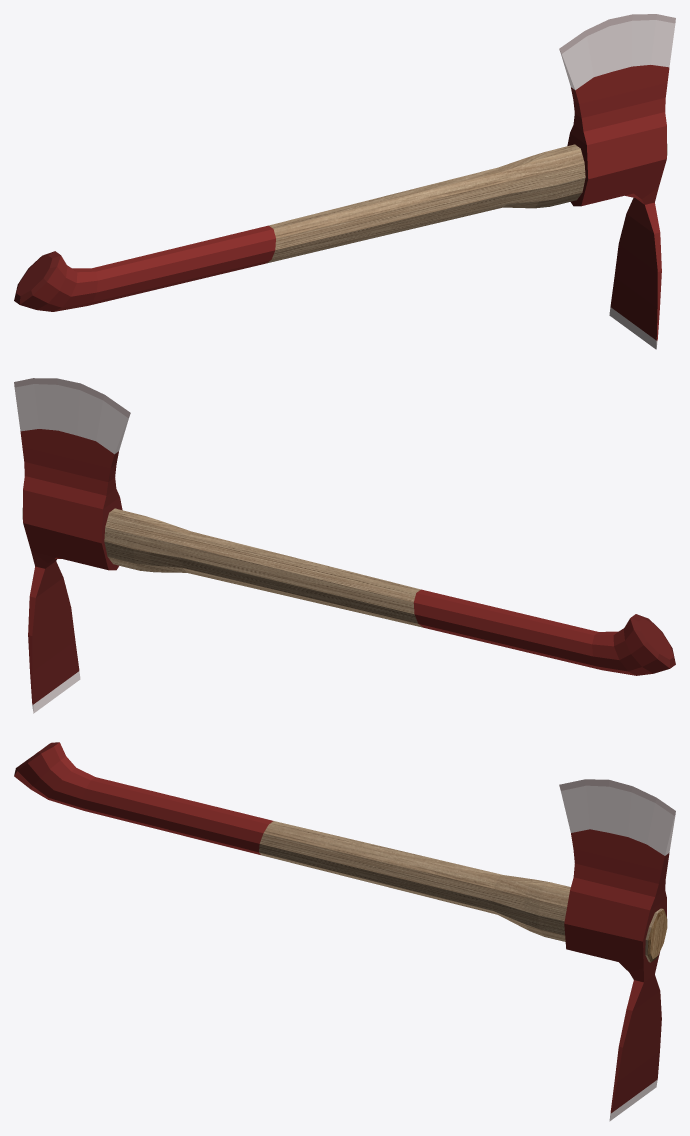
Rendered from PulaskiAxe.fbx.
3 renders of one model, top to bottom at view 1: azimuth 30°, elevation 25°; view 2: azimuth 150°, elevation 25°; view 3: azimuth 330°, elevation 25°, orthographic.
Parts seen in each view (by area): view 1: ZomboidPulaskiAxe; view 2: ZomboidPulaskiAxe; view 3: ZomboidPulaskiAxe.
Part boxes in pixels (left/top/right/bottom): ZomboidPulaskiAxe: left=14, top=14, right=675, bottom=349; ZomboidPulaskiAxe: left=14, top=378, right=675, bottom=713; ZomboidPulaskiAxe: left=14, top=742, right=675, bottom=1121.
Size of the model in its own units: 0.538 by 0.2489 by 0.0665.
